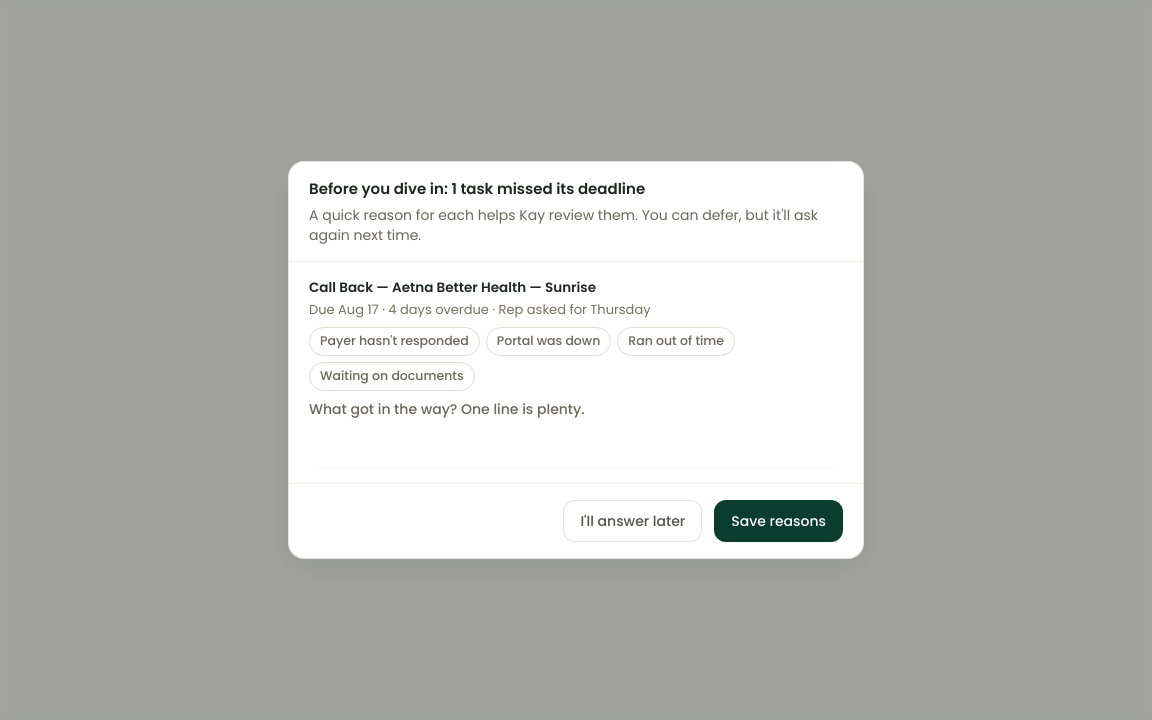
Test: OverdueReasonDialog › a chip fills the field, which stays editable
Click the button "Waiting on documents".
click(392, 376)  # box [309,362,475,391]
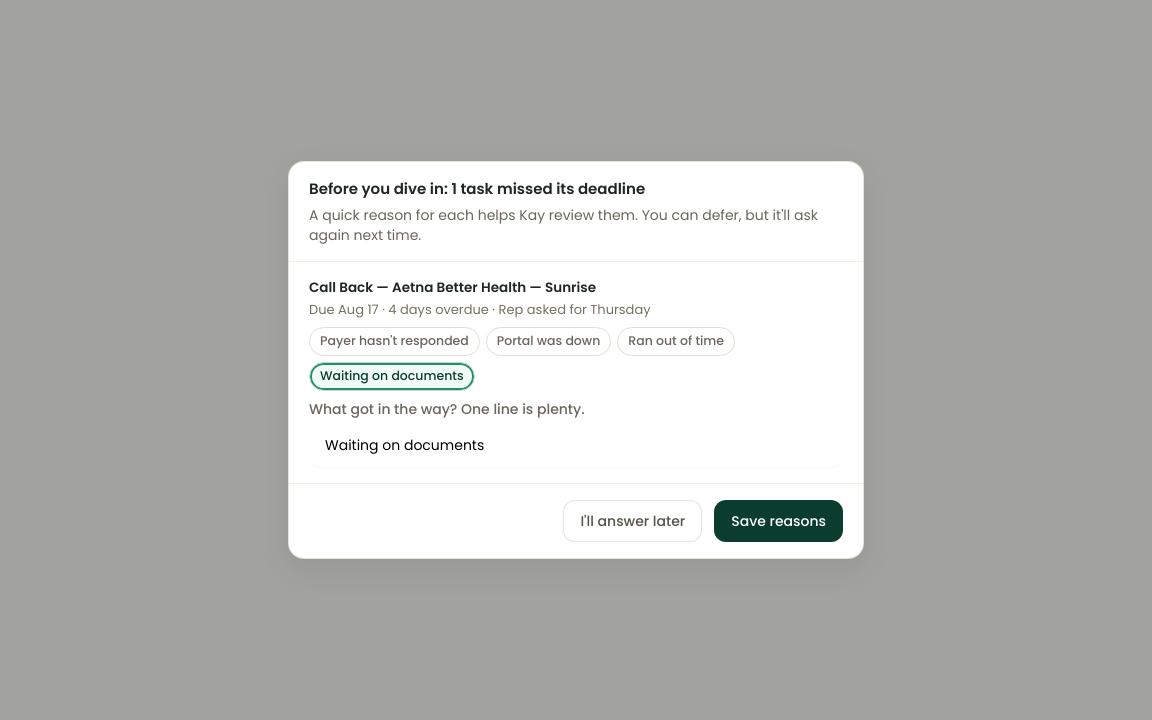
Result: the field named "Call Back" holds "Waiting on documents"
Type " — chased Friday" into the field named "Call Back".
click(576, 445); type(" — chased Friday")  # box [309,423,843,467]
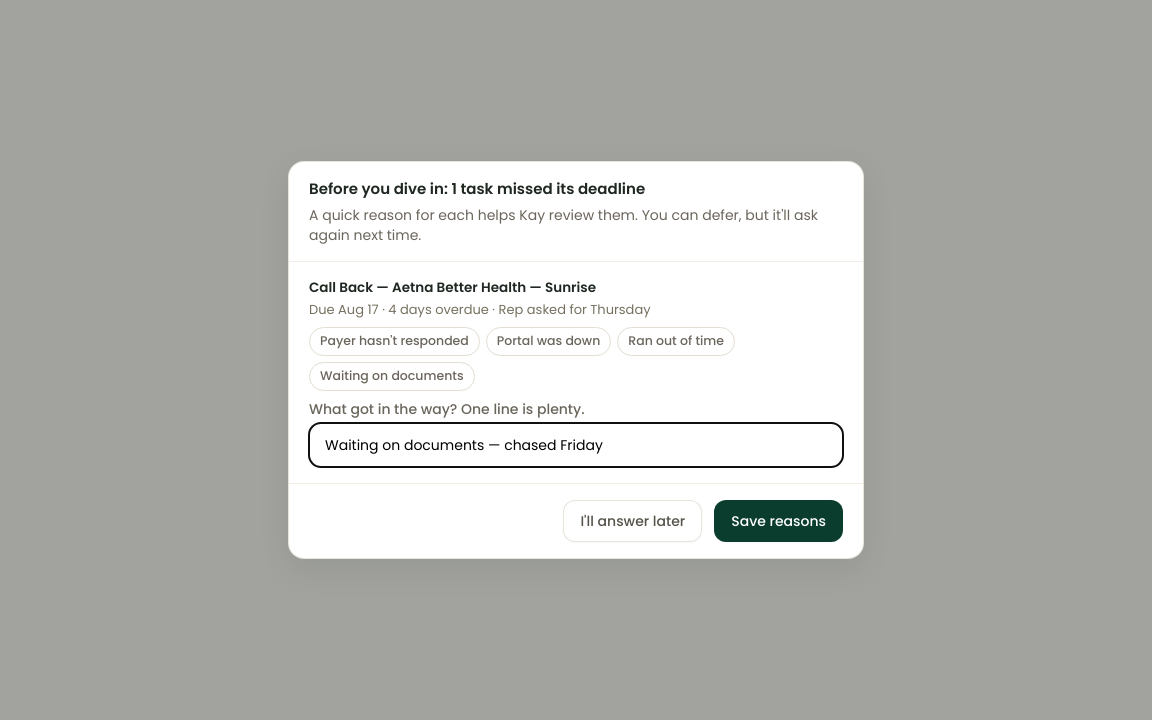
Result: the field named "Call Back" holds "Waiting on documents — chased Friday" at [309,423,843,467]
